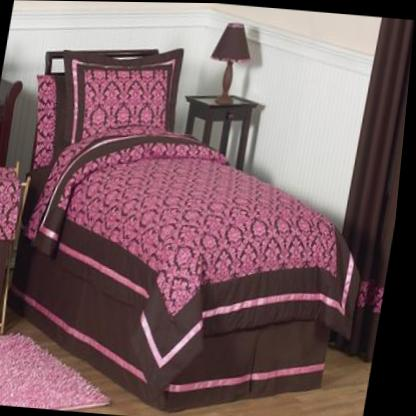Bed: (16, 50, 366, 413)
